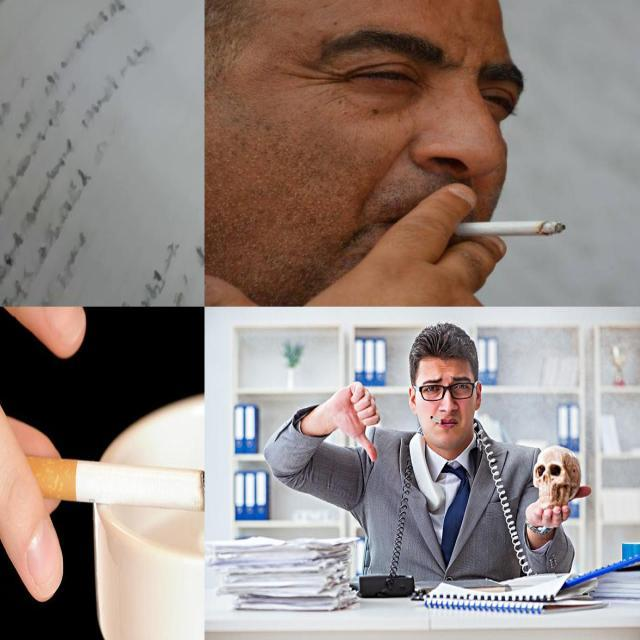smoking: (0, 448, 204, 540), (406, 206, 574, 244), (430, 415, 442, 424)
